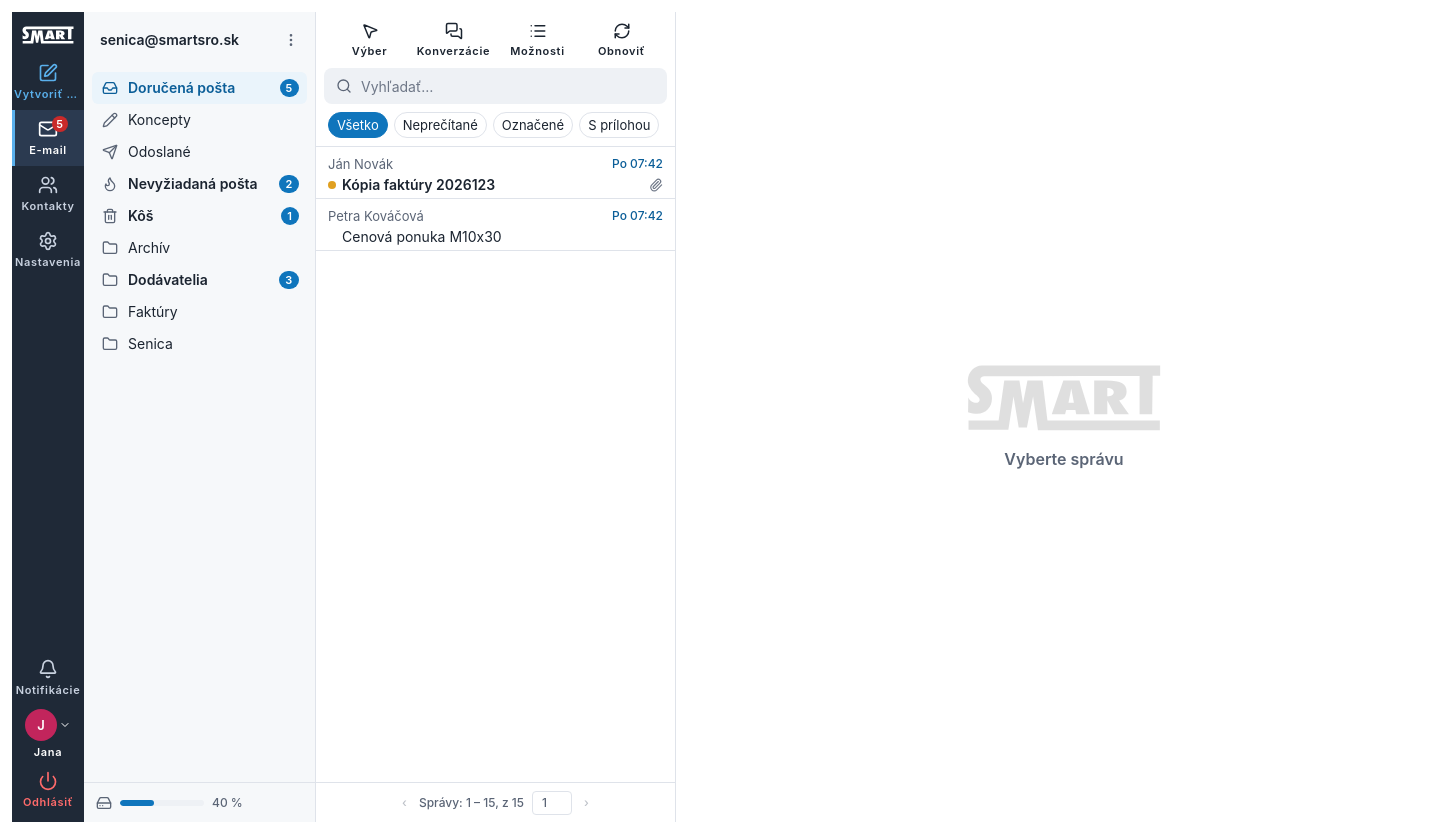
Test: W2b PersonChip › W2b Môj profil opens W12 03b with the active person
Click the button with aria-label "Pracuje: Jana Nováková" at [48, 734], box x1=12 y1=704 x2=84 y2=764
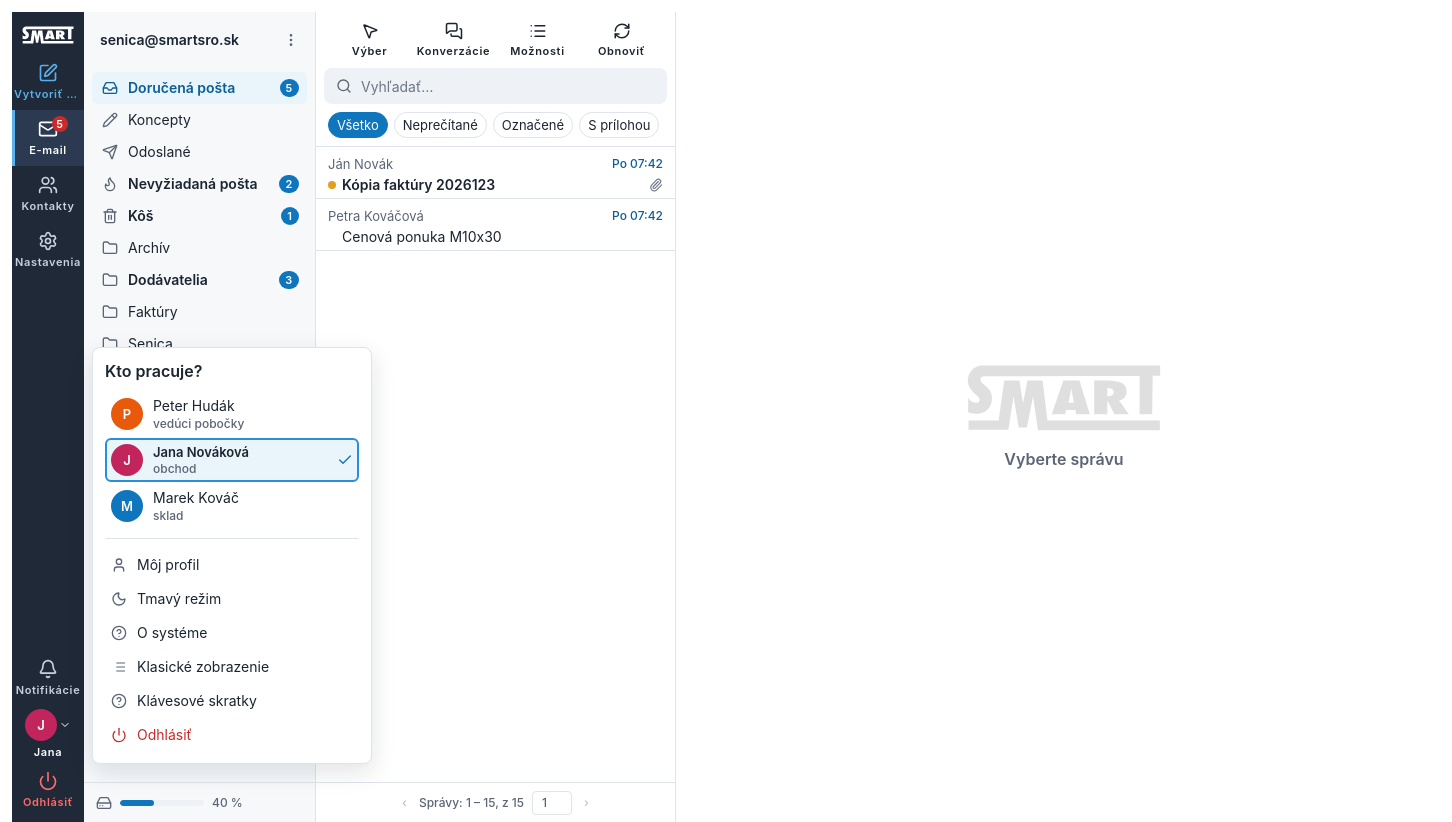
Click the menu item "Môj profil" at [232, 565], box x1=105 y1=549 x2=359 y2=581
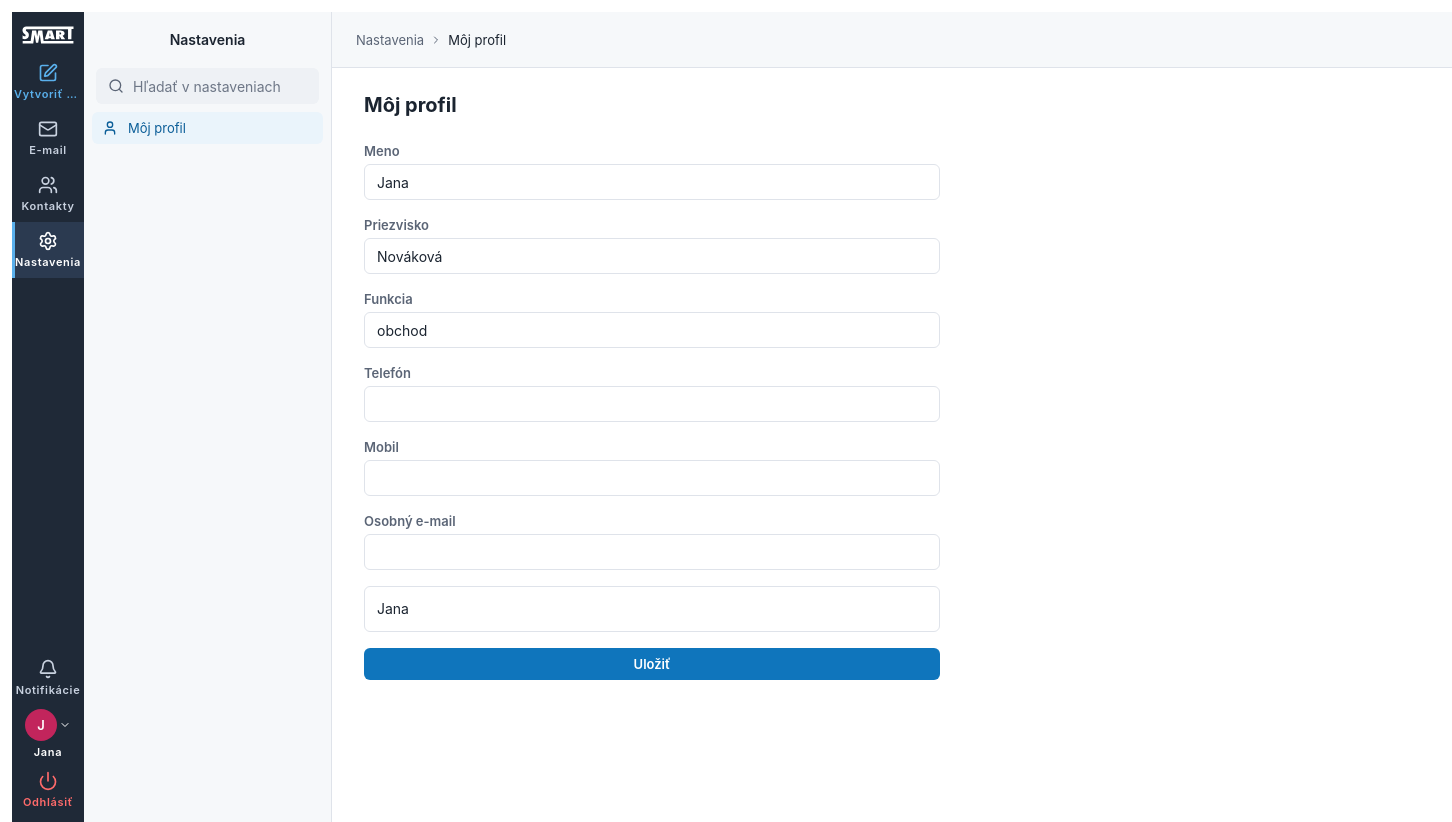
Expected: the heading "Môj profil" is shown, x1=364 y1=93 x2=457 y2=117
Expected: the field showing "Nováková" is shown, x1=364 y1=238 x2=940 y2=274
